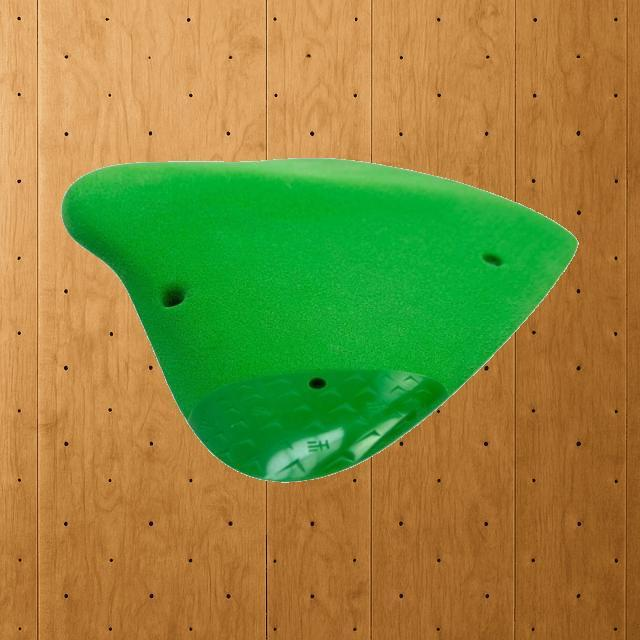Jug: (60, 156, 578, 482)
